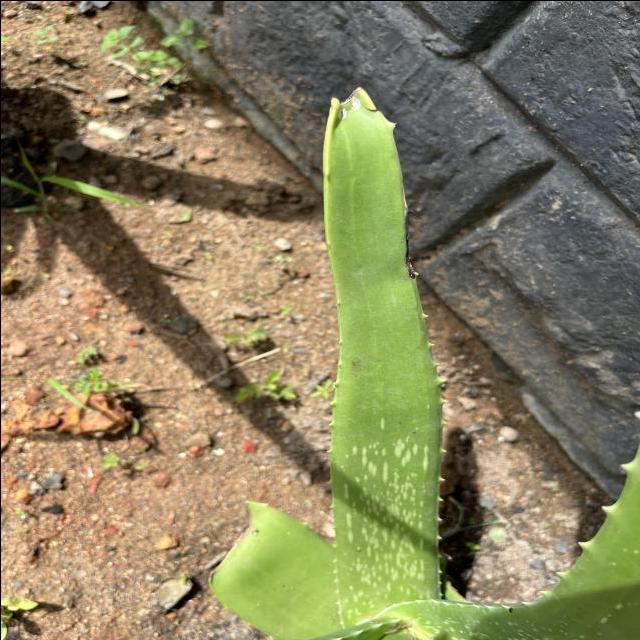Aloe vera: (309, 70, 449, 628)
